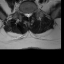CCS_stenosis: (27, 11, 29, 20)
LFS_normal: (32, 9, 34, 16)
LLS_normal: (29, 10, 32, 19)
RFS_normal: (23, 10, 25, 18)
RLS_normal: (25, 11, 27, 18)
